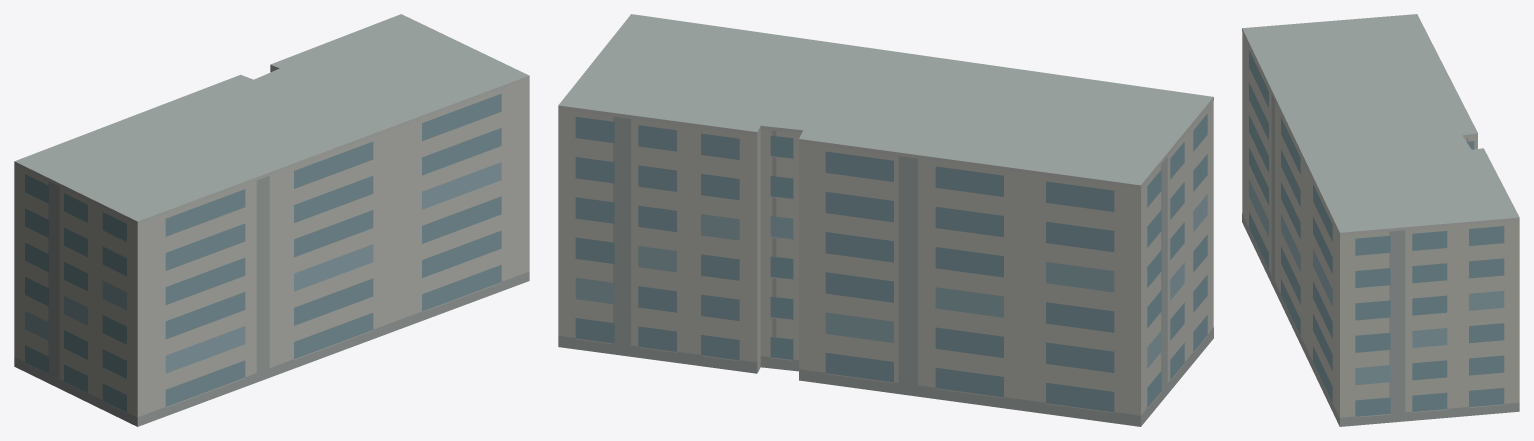
The model's file is survey-upis-32876912.glb.
3 views of the same model, side by side, from view 1: azimuth 30°, elevation 25°; view 2: azimuth 150°, elevation 25°; view 3: azimuth 270°, elevation 25° (orthographic). The views are drawn at different scales.
Visible parts, largest first — view 1: survey-upis-32876912.tmp; view 2: survey-upis-32876912.tmp; view 3: survey-upis-32876912.tmp.
Part boxes in pixels (x1,y1,x2,y2): survey-upis-32876912.tmp: (14,14,529,426); survey-upis-32876912.tmp: (558,14,1213,426); survey-upis-32876912.tmp: (1242,14,1519,426).
Size of the model in its own units: 38.07 by 15.75 by 20.42.
